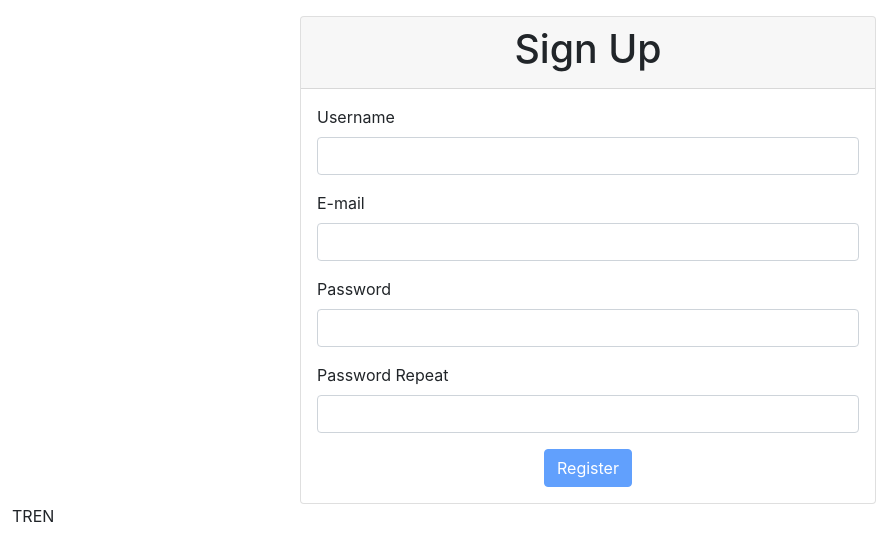
Test: Sign Up Page › Internationalization › Displays all text in turkish after changing the language
Click the text titled "Turkce" at coordinates (22, 516), box x1=12 y1=506 x2=33 y2=526
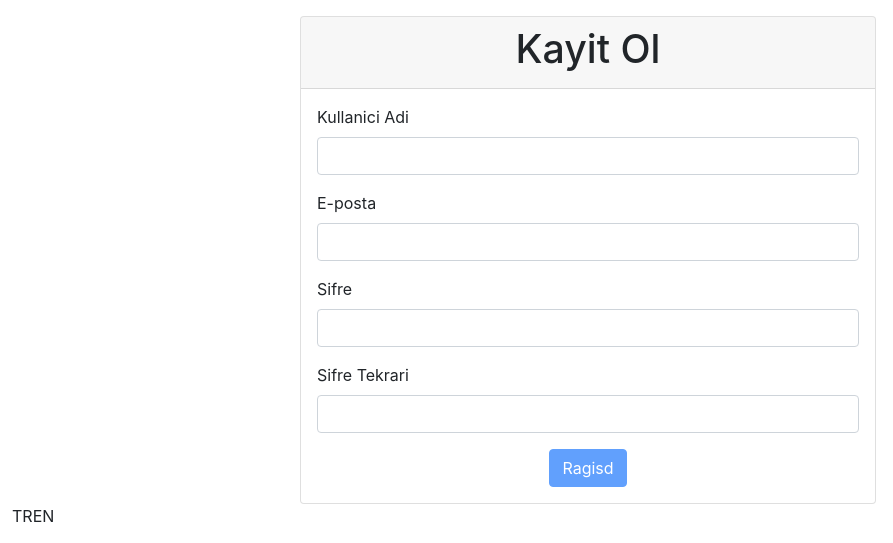
Check: the field labelled "Kullanici Adi" is shown, box x1=317 y1=137 x2=859 y2=175
Check: the heading "Kayit Ol" is shown, box x1=516 y1=25 x2=660 y2=72
Check: the button "Ragisd" is shown, box x1=549 y1=449 x2=626 y2=487
